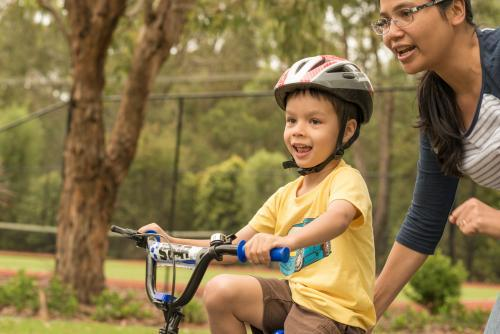helmets: (271, 53, 375, 122)
